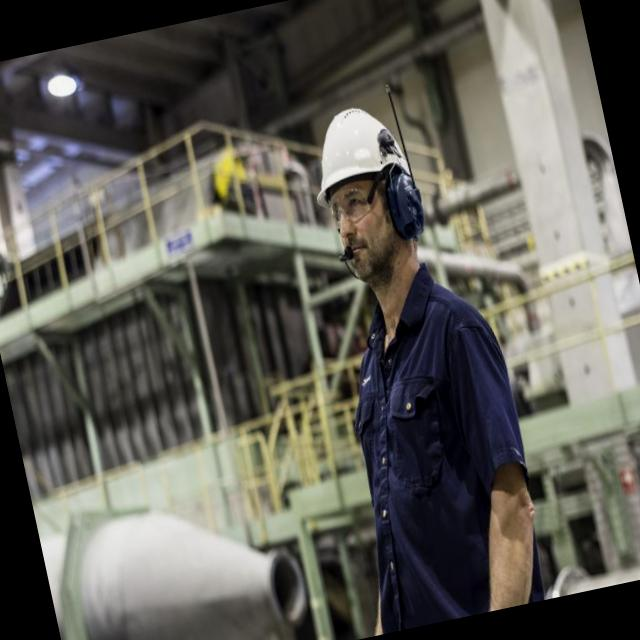goggles: (307, 162, 406, 230)
helmet: (294, 97, 418, 218)
no-vest: (302, 258, 546, 636)
